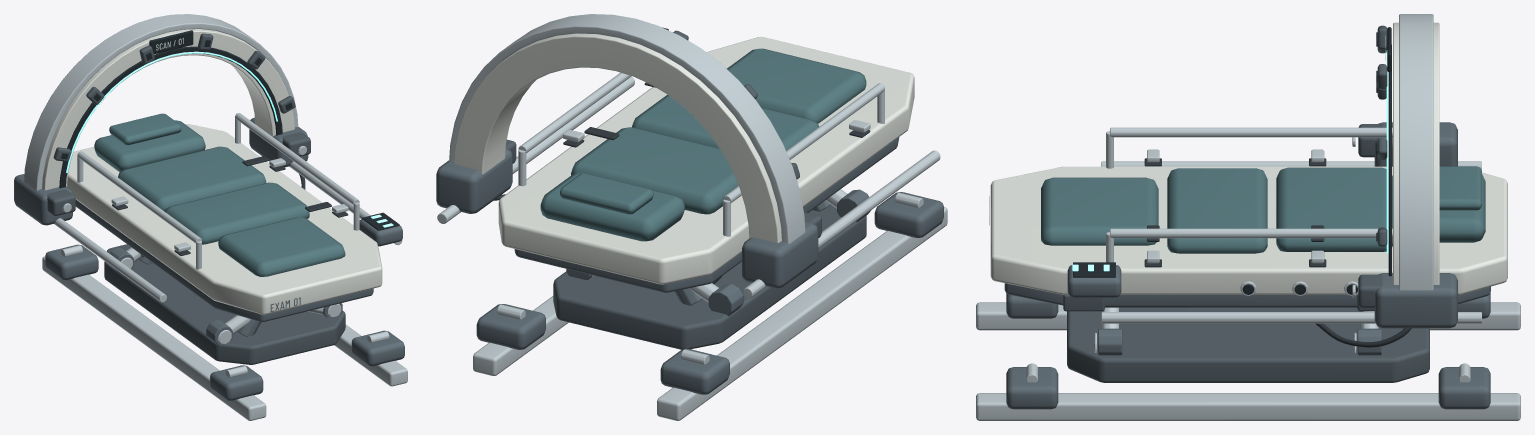
Rendered from examination-low.glb.
3 views of the same model, side by side, from view 1: azimuth 30°, elevation 25°; view 2: azimuth 150°, elevation 25°; view 3: azimuth 270°, elevation 25° (orthographic). The views are drawn at different scales.
Visible parts, largest first — view 1: examination__Ceramic medical shell, examination__Satin aluminium, examination__Medical upholstery, examination__Coated pressure frame, examination__Graphite enamel, examination__Recess and gasket, examination__Scanner sensing indicator, examination__Restraint webbing; view 2: examination__Ceramic medical shell, examination__Satin aluminium, examination__Medical upholstery, examination__Graphite enamel, examination__Coated pressure frame, examination__Restraint webbing; view 3: examination__Satin aluminium, examination__Ceramic medical shell, examination__Medical upholstery, examination__Coated pressure frame, examination__Graphite enamel, examination__Recess and gasket, examination__Restraint webbing, examination__Scanner sensing indicator.
Boxes of the visible parts, bbox=[...] form: examination__Ceramic medical shell: bbox=[42, 29, 382, 314]; examination__Satin aluminium: bbox=[24, 14, 407, 420]; examination__Medical upholstery: bbox=[94, 113, 345, 276]; examination__Coated pressure frame: bbox=[47, 33, 345, 364]; examination__Graphite enamel: bbox=[14, 117, 404, 400]; examination__Recess and gasket: bbox=[59, 30, 399, 230]; examination__Scanner sensing indicator: bbox=[66, 51, 277, 172]; examination__Restraint webbing: bbox=[112, 156, 348, 256]; examination__Ceramic medical shell: bbox=[453, 33, 914, 284]; examination__Satin aluminium: bbox=[437, 14, 947, 420]; examination__Medical upholstery: bbox=[540, 48, 866, 241]; examination__Graphite enamel: bbox=[436, 137, 943, 394]; examination__Coated pressure frame: bbox=[505, 30, 866, 349]; examination__Restraint webbing: bbox=[493, 82, 870, 283]; examination__Satin aluminium: bbox=[976, 14, 1520, 420]; examination__Ceramic medical shell: bbox=[990, 22, 1507, 294]; examination__Medical upholstery: bbox=[1041, 166, 1485, 253]; examination__Coated pressure frame: bbox=[1063, 25, 1429, 382]; examination__Graphite enamel: bbox=[989, 122, 1490, 409]; examination__Recess and gasket: bbox=[1073, 27, 1391, 294]; examination__Restraint webbing: bbox=[1144, 158, 1411, 347]; examination__Scanner sensing indicator: bbox=[1386, 50, 1388, 253].
Bounding box in the file's own units: 2.34 × 2.16 × 3.15.
